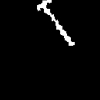half_double_crochet: (37, 0, 73, 45)
